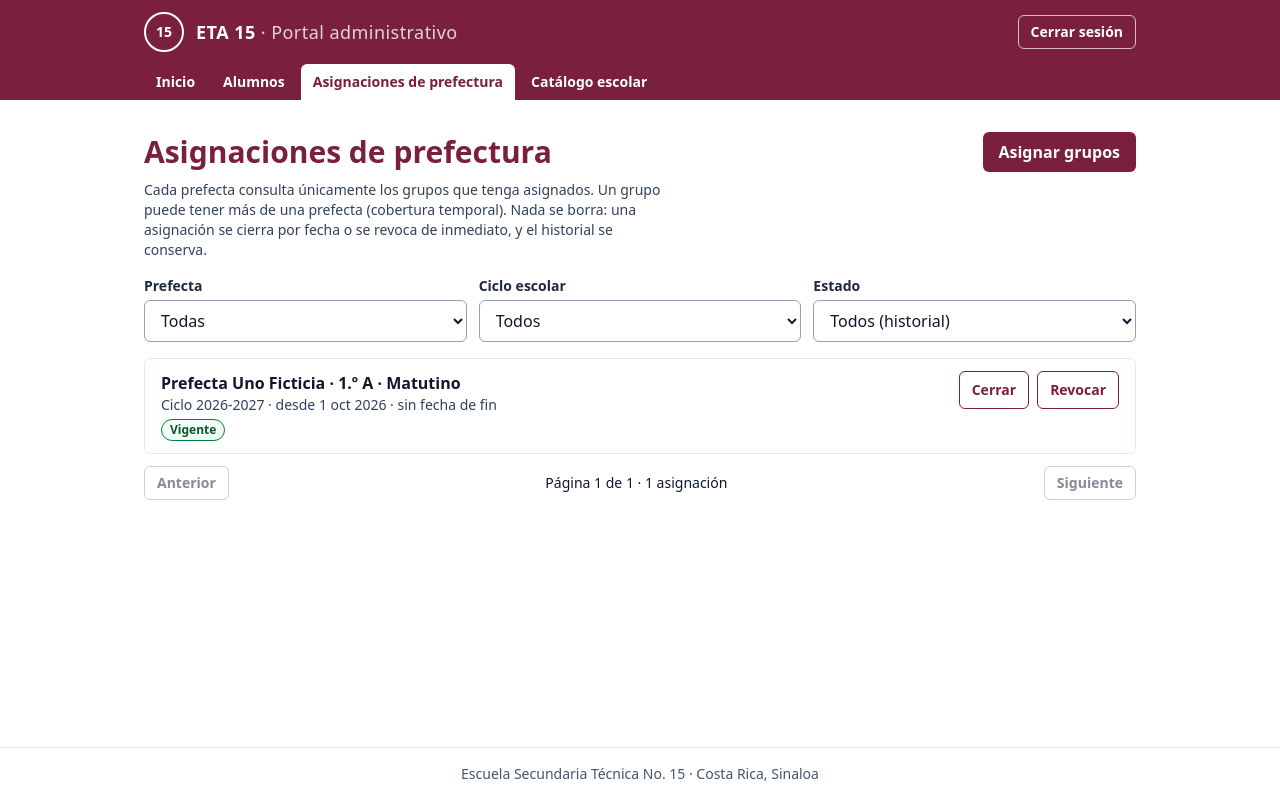
Test: asignar grupos › si ningun grupo se asigna, lo dice sin hablar de exito y conserva la seleccion
Click the button "Asignar grupos" at (1059, 152), box x1=982 y1=132 x2=1136 y2=172
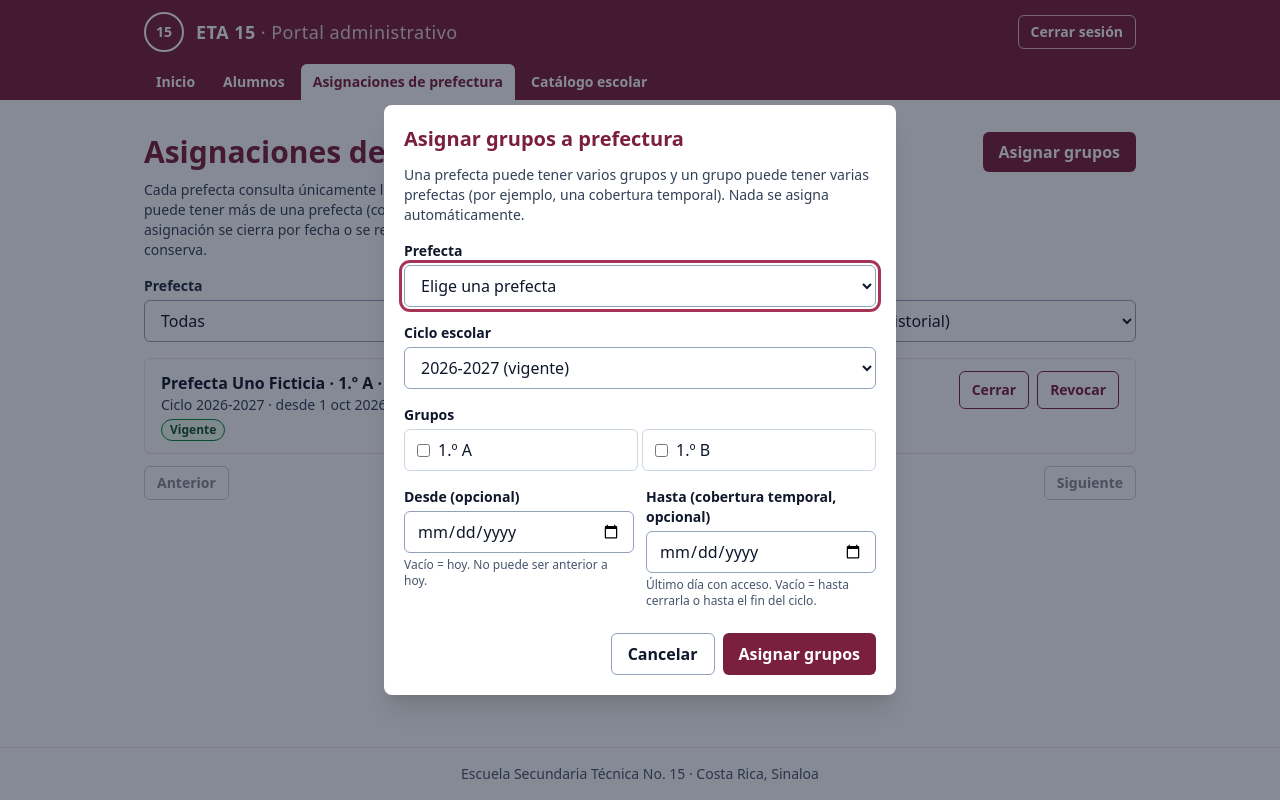
Select "Prefecta Uno Ficticia · uno@escuela.test" in the dropdown labelled "Prefecta" at (640, 286), box x1=404 y1=265 x2=876 y2=307
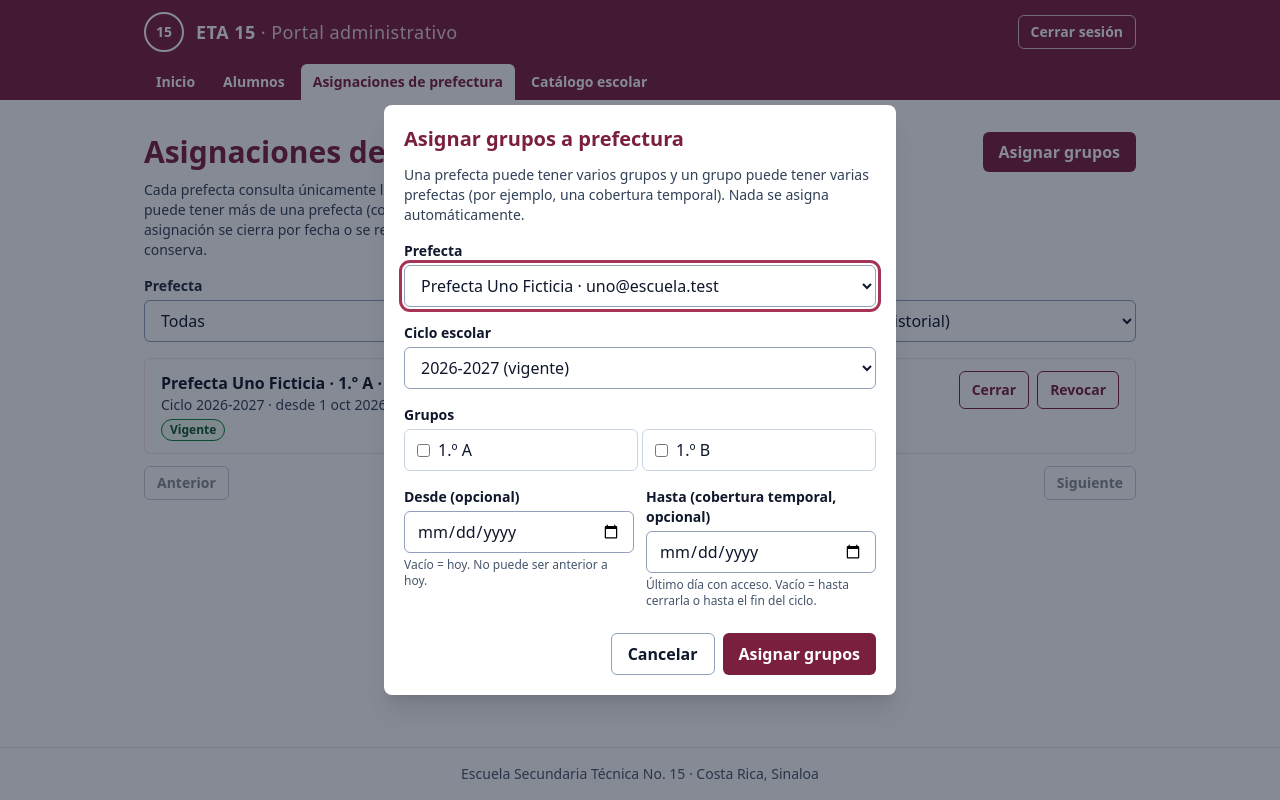
Click the checkbox labelled "1.º A" at (424, 450), box x1=417 y1=444 x2=430 y2=456
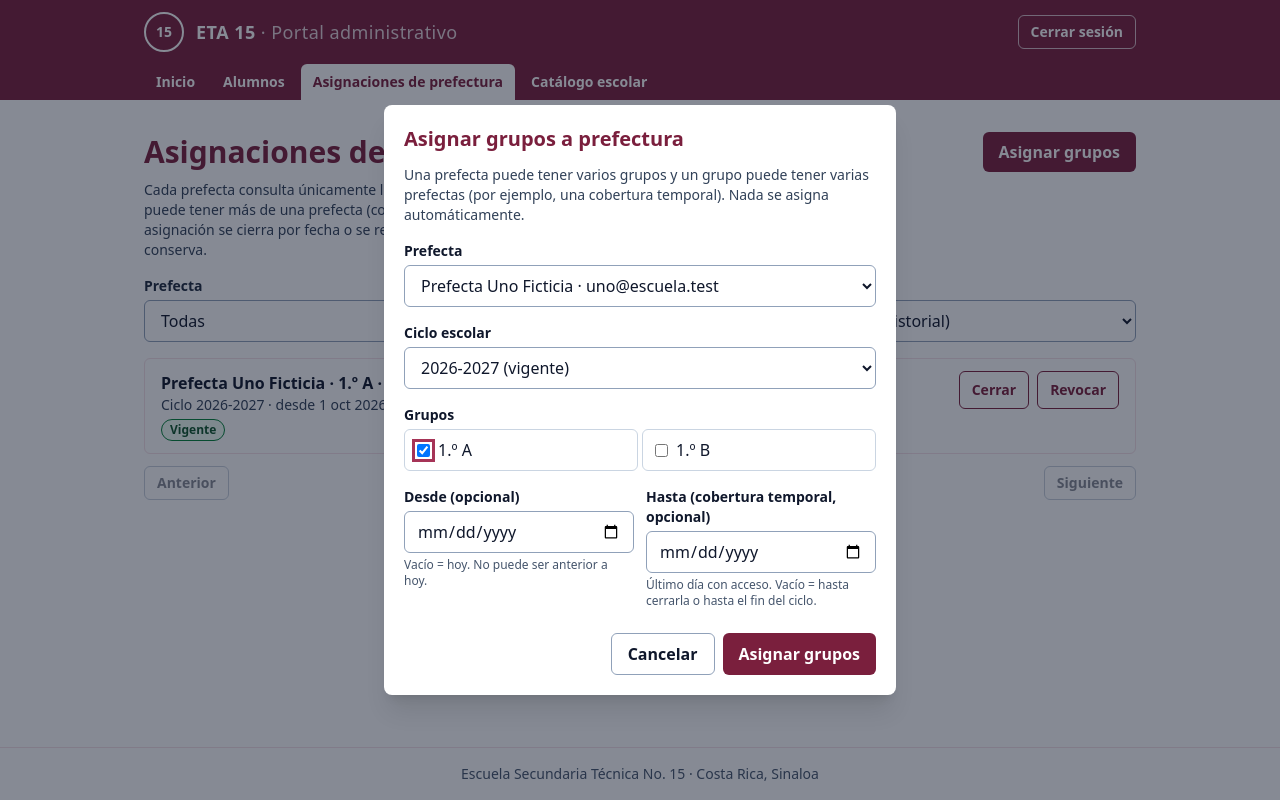
Click the button "Asignar grupos" at (799, 654), box x1=722 y1=633 x2=876 y2=675
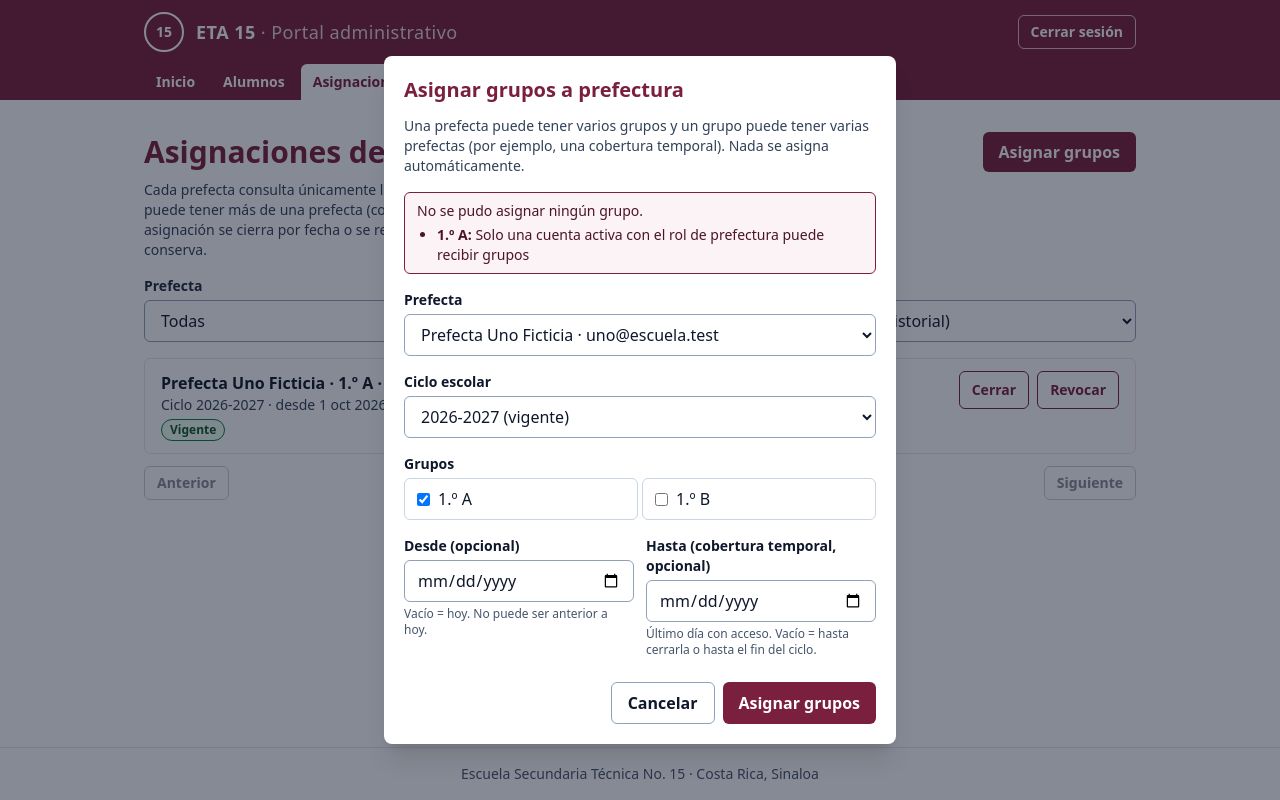
Expected: the checkbox labelled "1.º A" is checked, x1=417 y1=492 x2=430 y2=506
Expected: the message shows "No se pudo asignar ningún grupo", x1=417 y1=201 x2=643 y2=220
